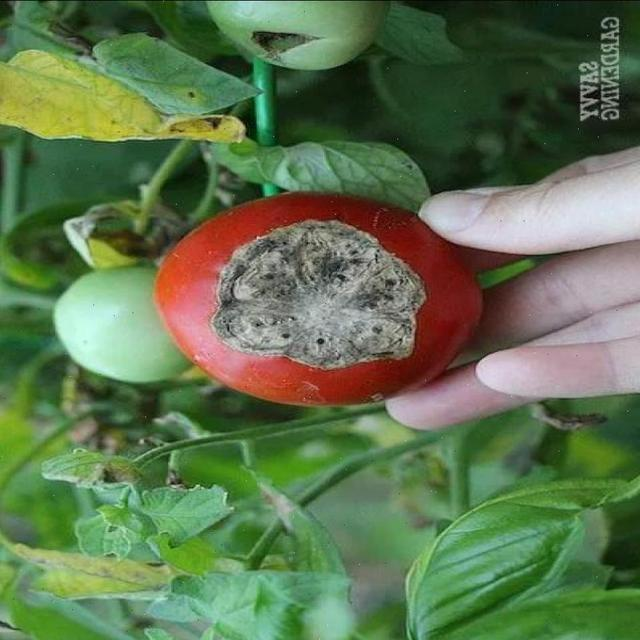Blossom End Rot Fruit: (57, 25, 211, 194)
